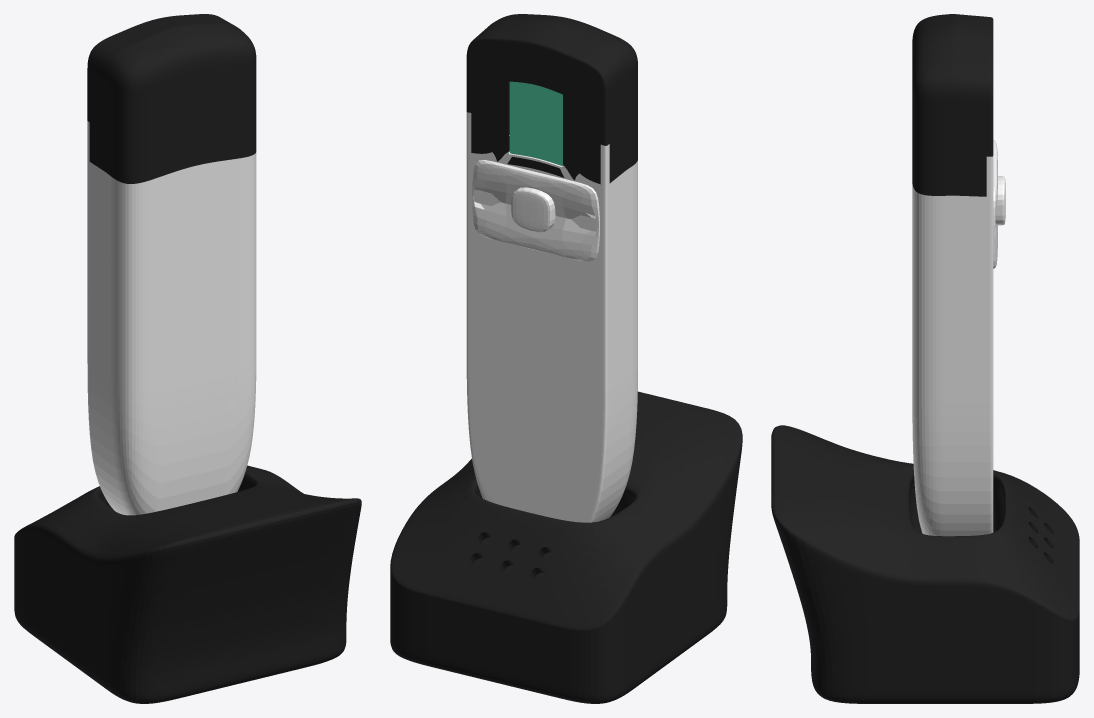
File: Phone.fbx
The picture shows the model from 3 angles, left to right: view 1: azimuth 30°, elevation 25°; view 2: azimuth 150°, elevation 25°; view 3: azimuth 270°, elevation 25°; orthographic projection.
Visible parts, largest first — view 1: Cube; view 2: Cube; view 3: Cube.
Part boxes in pixels (x1=…): Cube: x1=14, y1=14, x2=361, y2=703; Cube: x1=390, y1=14, x2=742, y2=703; Cube: x1=771, y1=14, x2=1079, y2=703.
Size of the model in its own units: 153 by 391 by 175.
